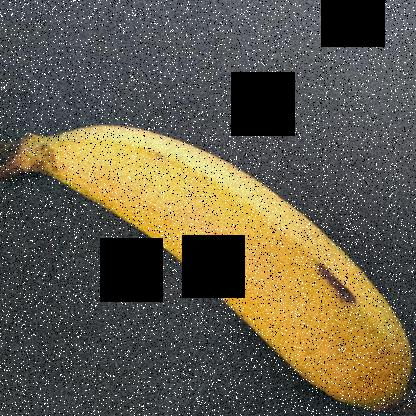freshripe: (34, 134, 416, 415)
